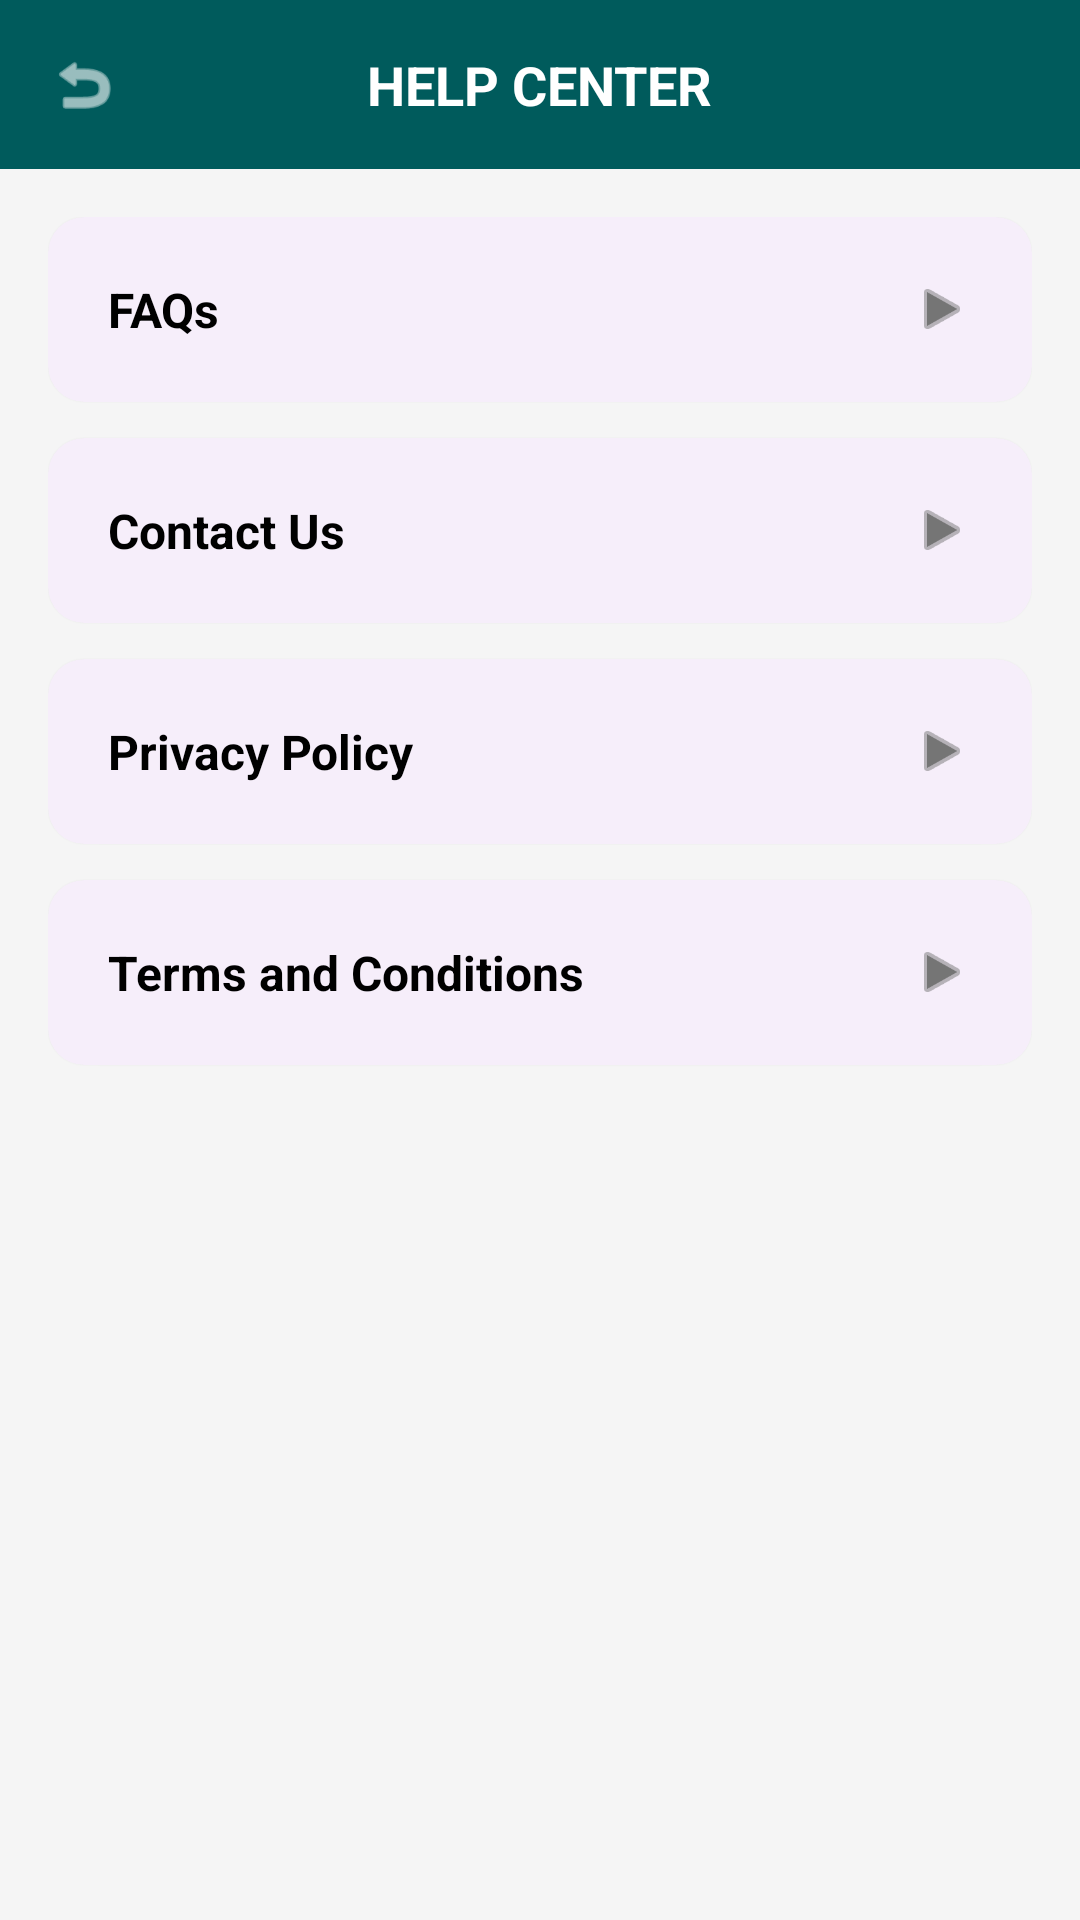

Named icons in this screenshot (1080px×1920px) and their centers, (x=x, y=y):
play: (x=942, y=309), (x=942, y=530), (x=942, y=751), (x=942, y=972)
revert: (x=85, y=85)
